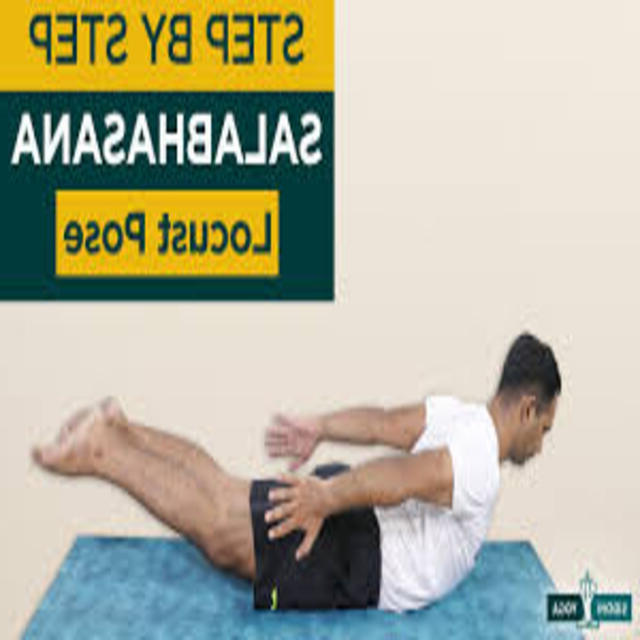Locust_Pose: (26, 334, 562, 610)
